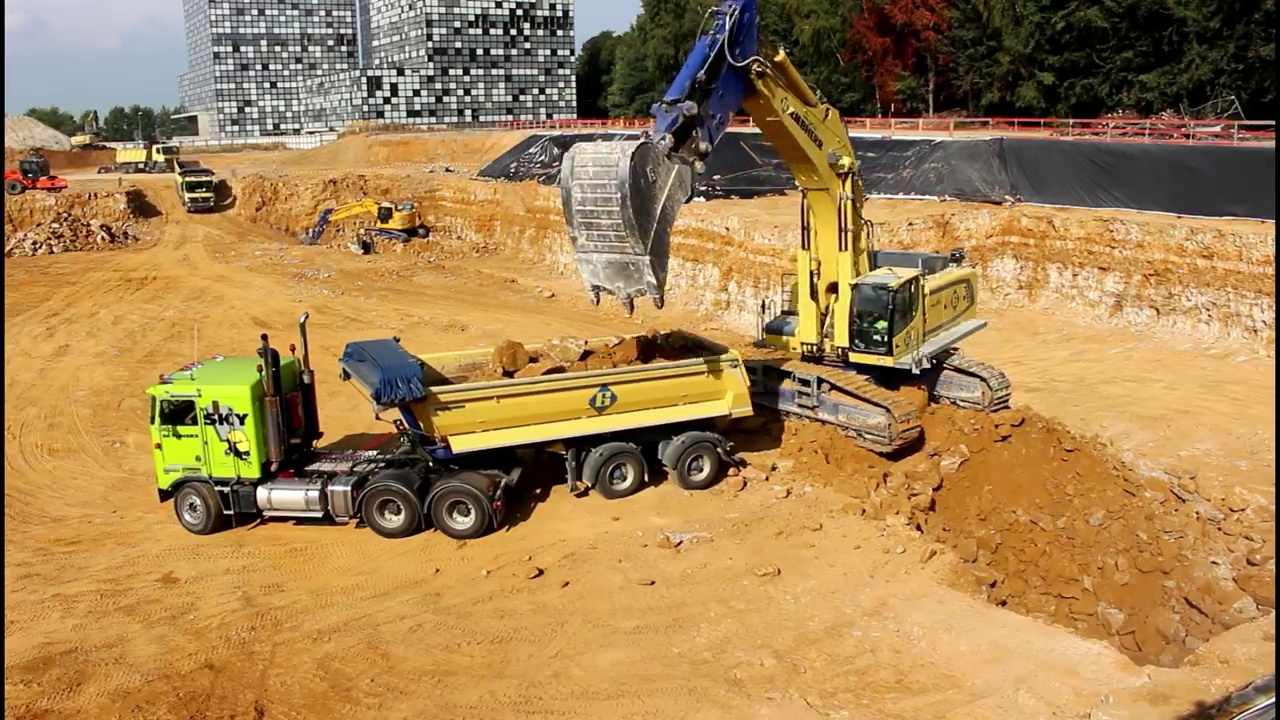compactor: (2, 151, 73, 200)
excavator: (555, 1, 1016, 467), (290, 193, 436, 262), (66, 103, 111, 154)
truck: (139, 309, 760, 543), (104, 138, 184, 178), (171, 155, 223, 214)
